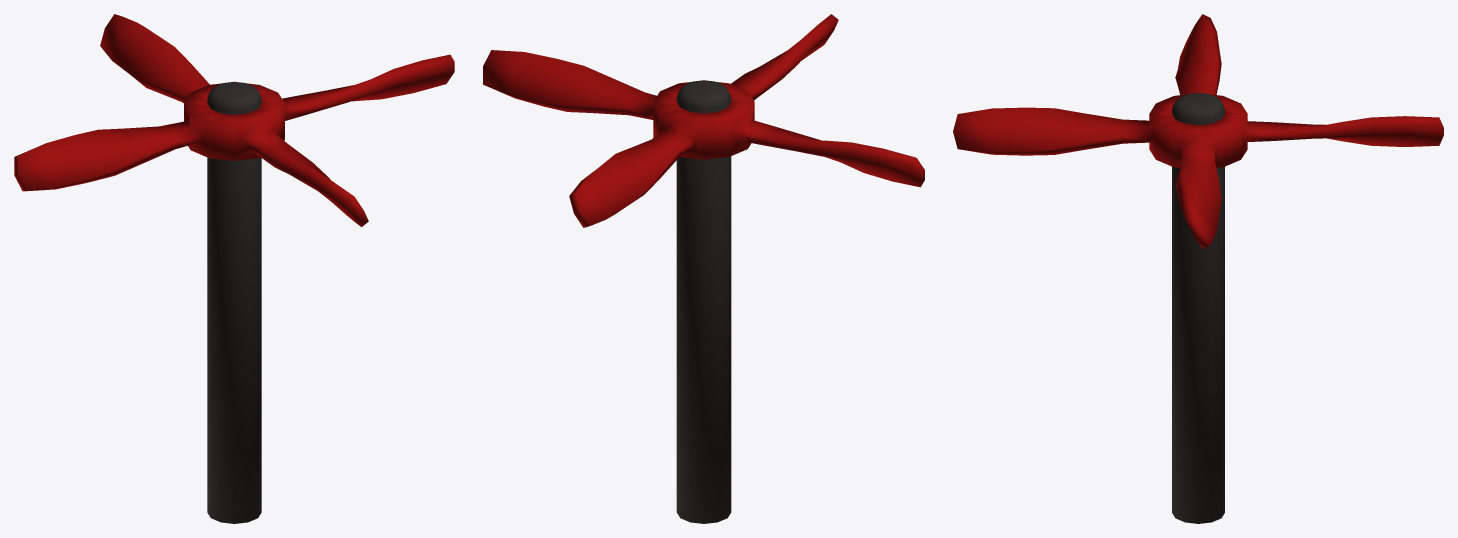
Rendered from prop.fbx.
3 views of the same model, side by side, from view 1: azimuth 30°, elevation 25°; view 2: azimuth 150°, elevation 25°; view 3: azimuth 270°, elevation 25° (orthographic). The views are drawn at different scales.
Parts seen in each view (by area): view 1: Cylinder, Cylinder.001; view 2: Cylinder, Cylinder.001; view 3: Cylinder, Cylinder.001.
Boxes of the visible parts, x1,y1,x2,y2 form: Cylinder: (14,14,454,226); Cylinder.001: (207,81,261,523); Cylinder: (483,14,924,227); Cylinder.001: (676,80,731,523); Cylinder: (953,14,1443,248); Cylinder.001: (1172,93,1224,523).
Size of the model in its own units: 997 by 924 by 997.
